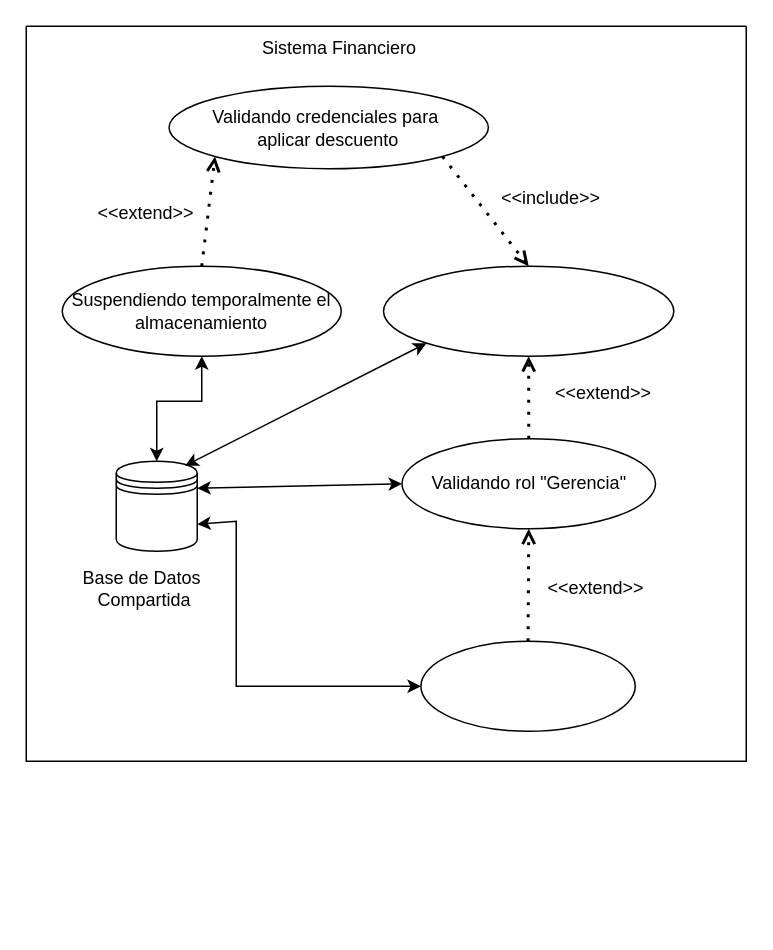
Image size: 773x950. Some labels were removed from this diagram. Each missing label, with the centre of its shape:
Consultando rol o permisos asociados a cuenta activa: (528,310)
Reanudando el almacenamiento nuevo saldo: (527,685)
